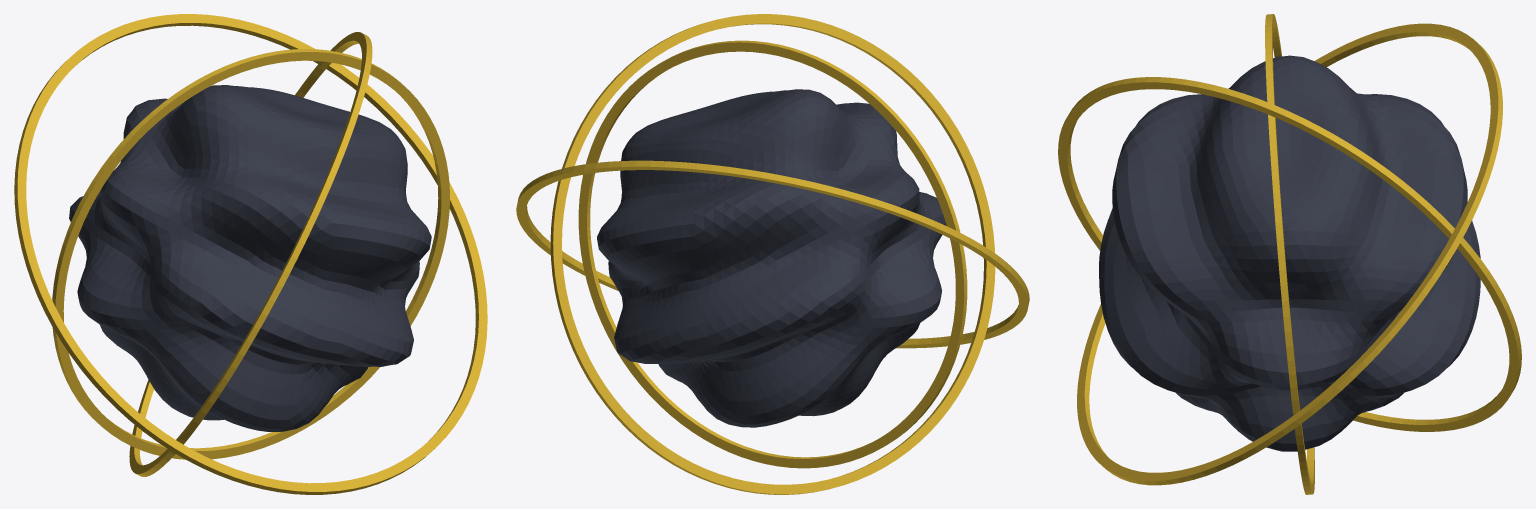
Rendered from gpu-artifact.glb.
The picture shows the model from 3 angles, left to right: view 1: azimuth 30°, elevation 25°; view 2: azimuth 150°, elevation 25°; view 3: azimuth 270°, elevation 25°; orthographic projection. The views are drawn at different scales.
Parts seen in each view (by area): view 1: printify-connector_obsidian_core, printify-connector_orbital_ring_2, printify-connector_orbital_ring_0, printify-connector_orbital_ring_1; view 2: printify-connector_obsidian_core, printify-connector_orbital_ring_1, printify-connector_orbital_ring_0, printify-connector_orbital_ring_2; view 3: printify-connector_obsidian_core, printify-connector_orbital_ring_2, printify-connector_orbital_ring_1, printify-connector_orbital_ring_0.
Boxes of the visible parts, x1=… form: printify-connector_obsidian_core: x1=69, y1=85, x2=431, y2=431; printify-connector_orbital_ring_2: x1=14, y1=14, x2=487, y2=494; printify-connector_orbital_ring_0: x1=52, y1=49, x2=449, y2=459; printify-connector_orbital_ring_1: x1=129, y1=32, x2=372, y2=476; printify-connector_obsidian_core: x1=597, y1=89, x2=946, y2=427; printify-connector_orbital_ring_1: x1=550, y1=14, x2=995, y2=494; printify-connector_orbital_ring_0: x1=578, y1=40, x2=967, y2=468; printify-connector_orbital_ring_2: x1=516, y1=160, x2=1029, y2=348; printify-connector_obsidian_core: x1=1099, y1=55, x2=1480, y2=451; printify-connector_orbital_ring_2: x1=1077, y1=23, x2=1502, y2=485; printify-connector_orbital_ring_1: x1=1058, y1=77, x2=1521, y2=431; printify-connector_orbital_ring_0: x1=1265, y1=14, x2=1314, y2=494.
Bounding box in the file's own units: 3.2 × 2.75 × 2.66.
